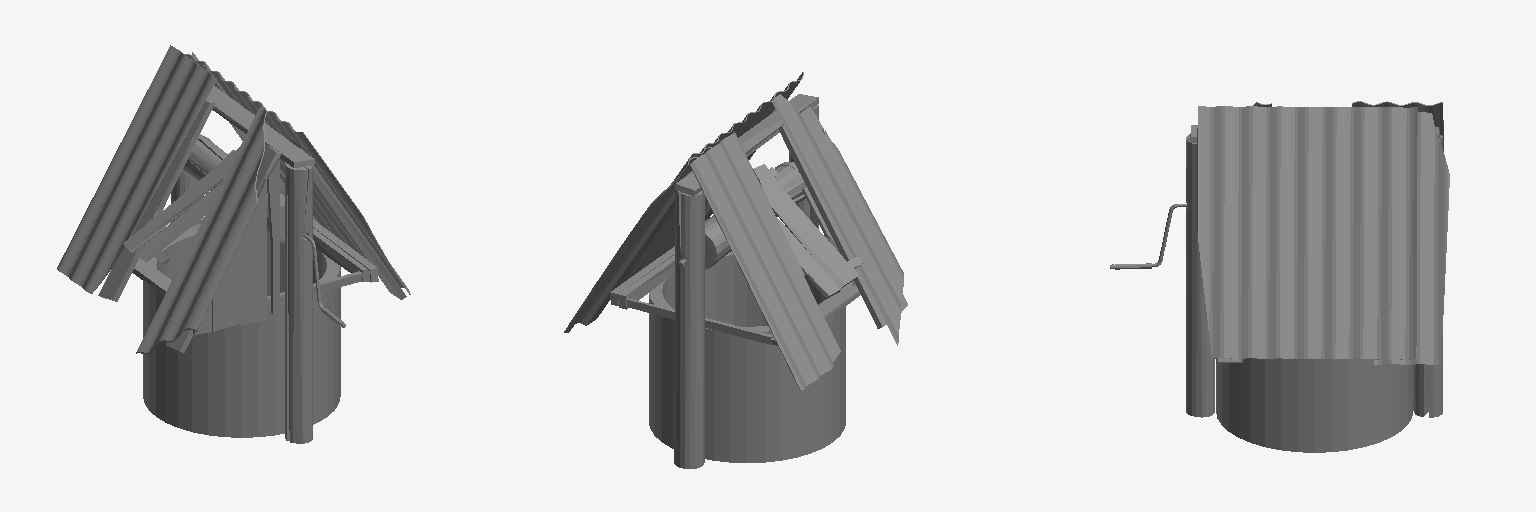
The model's file is Well.obj.
The picture shows the model from 3 angles: view 1: azimuth 30°, elevation 25°; view 2: azimuth 150°, elevation 25°; view 3: azimuth 270°, elevation 25°; orthographic projection.
Visible parts, largest first — view 1: Well; view 2: Well; view 3: Well.
Part boxes in pixels (bbox=[...]): Well: bbox=[57, 45, 410, 443]; Well: bbox=[564, 72, 907, 468]; Well: bbox=[1110, 101, 1449, 452].
Size of the model in its own units: 146 by 171 by 172.